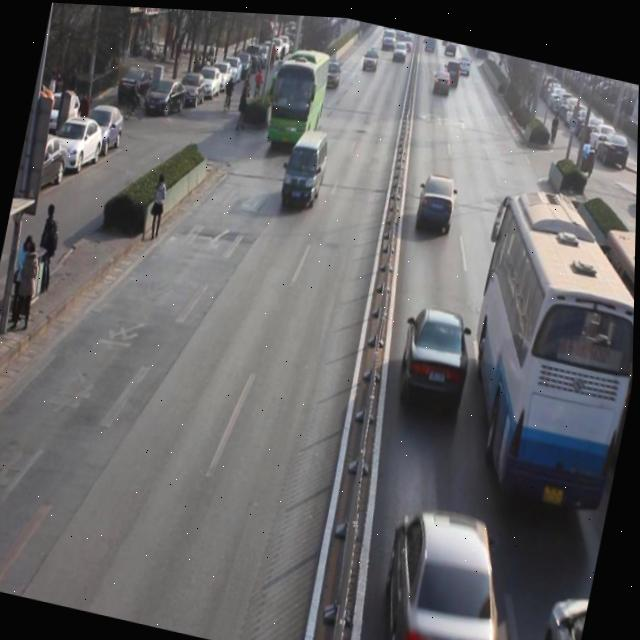car: (369, 492, 529, 640), (392, 297, 481, 417), (412, 164, 461, 233), (321, 55, 344, 91), (360, 40, 382, 75), (430, 63, 454, 94), (391, 38, 409, 60)
truck: (279, 120, 334, 213)
van: (446, 177, 637, 517), (554, 219, 637, 488), (260, 46, 329, 160)
